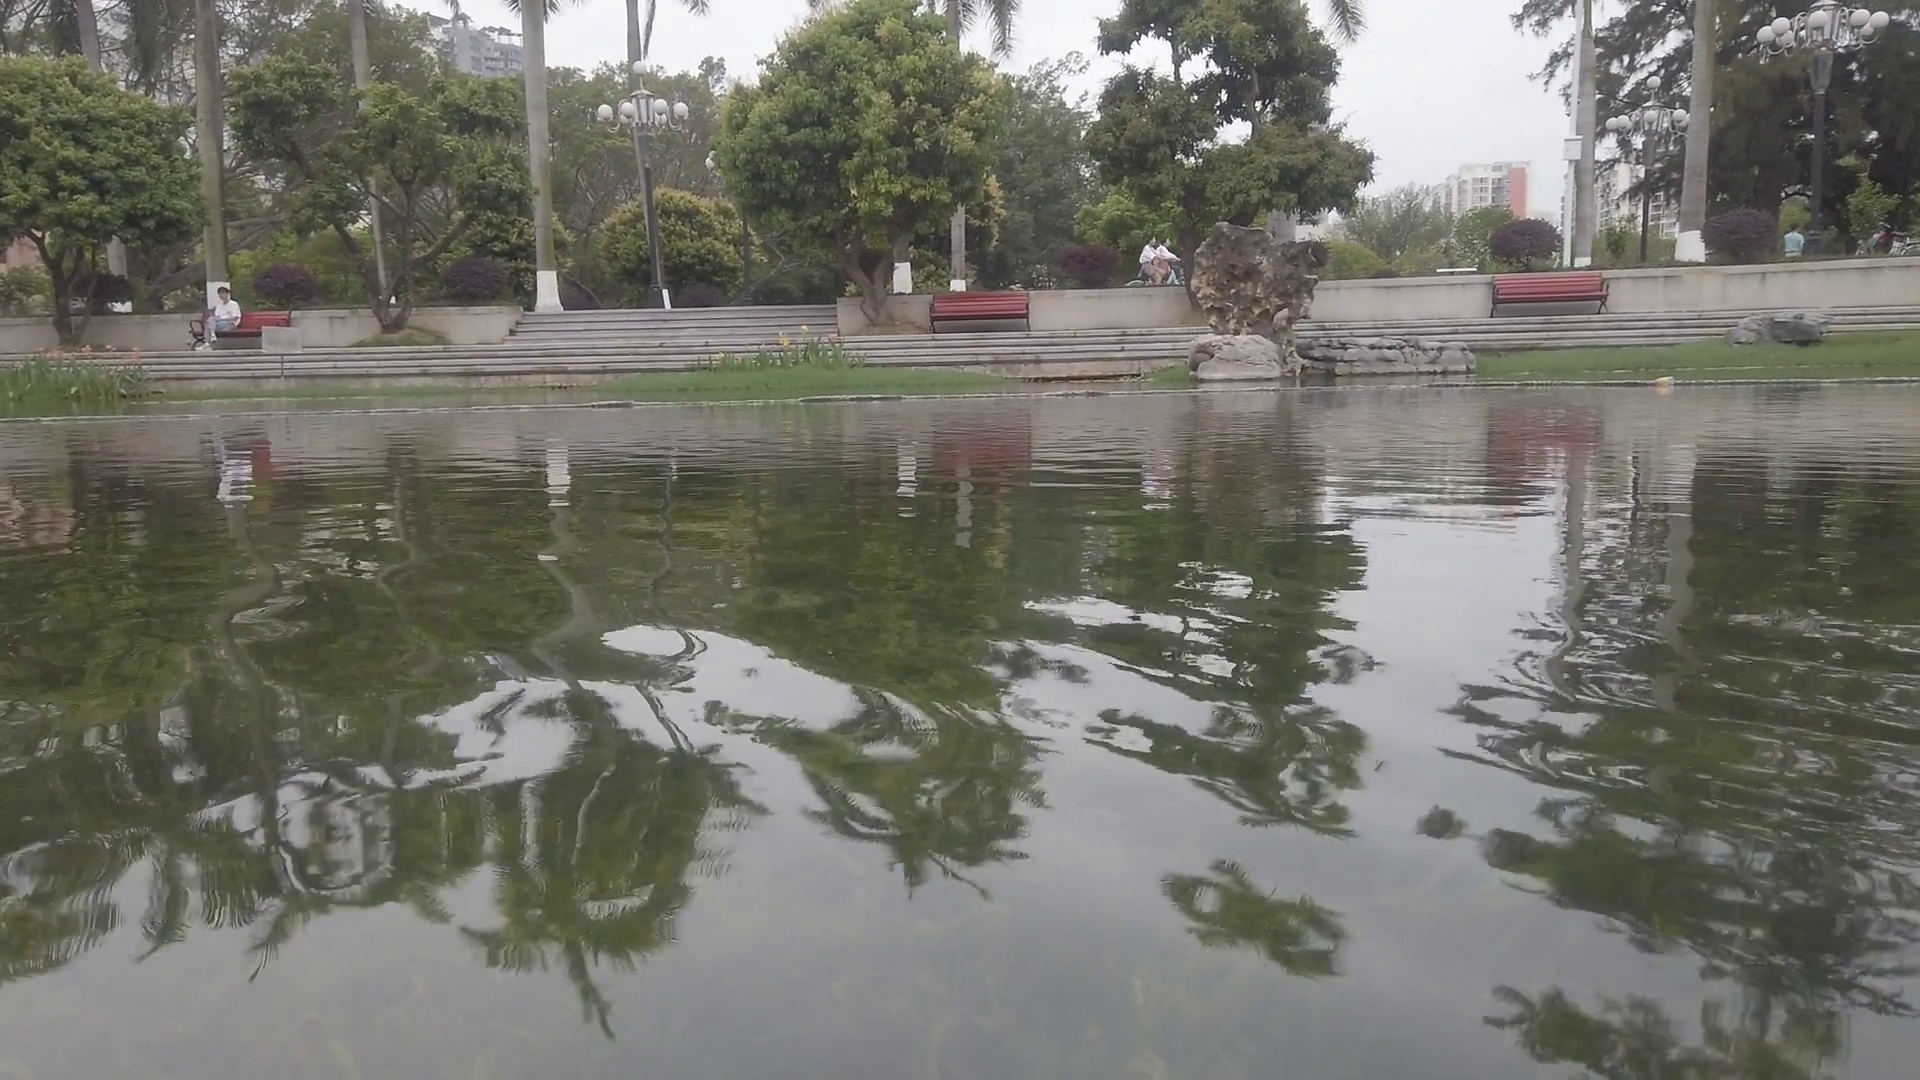bottle: (1648, 377, 1673, 385)
